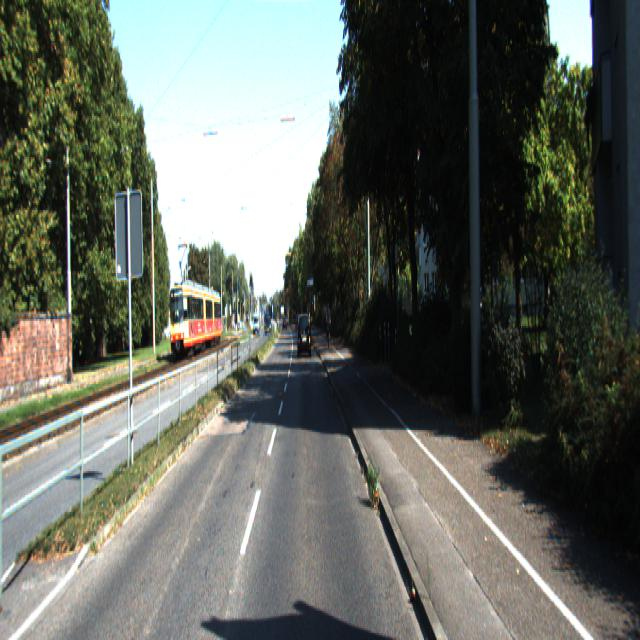Car: (168, 273, 222, 353), (298, 312, 312, 358)
